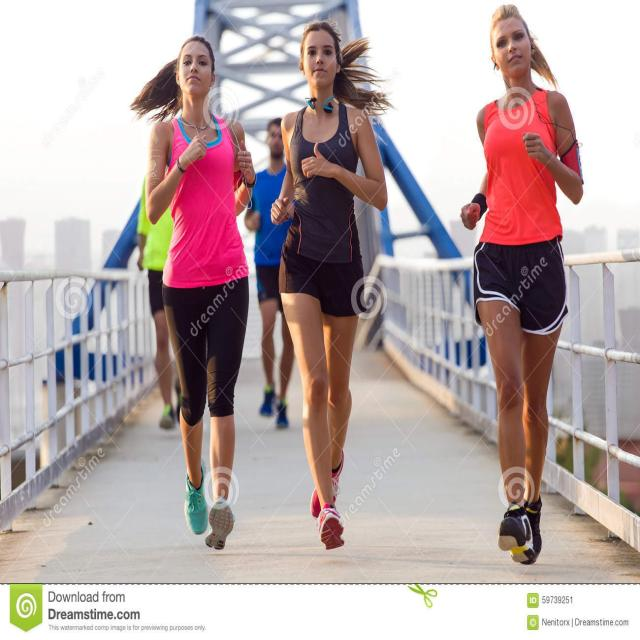body: (458, 0, 585, 568), (125, 31, 261, 558), (266, 13, 394, 554), (243, 117, 295, 429), (136, 164, 183, 430)
